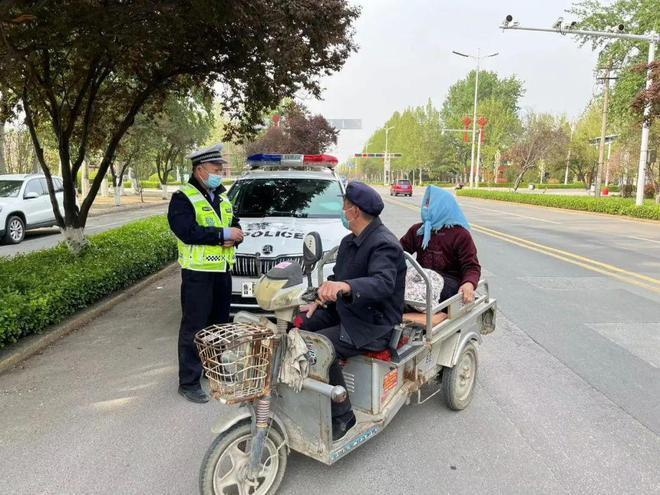driver: (260, 183, 415, 396)
overloading: (192, 176, 529, 486)
passenger: (393, 172, 495, 365)
